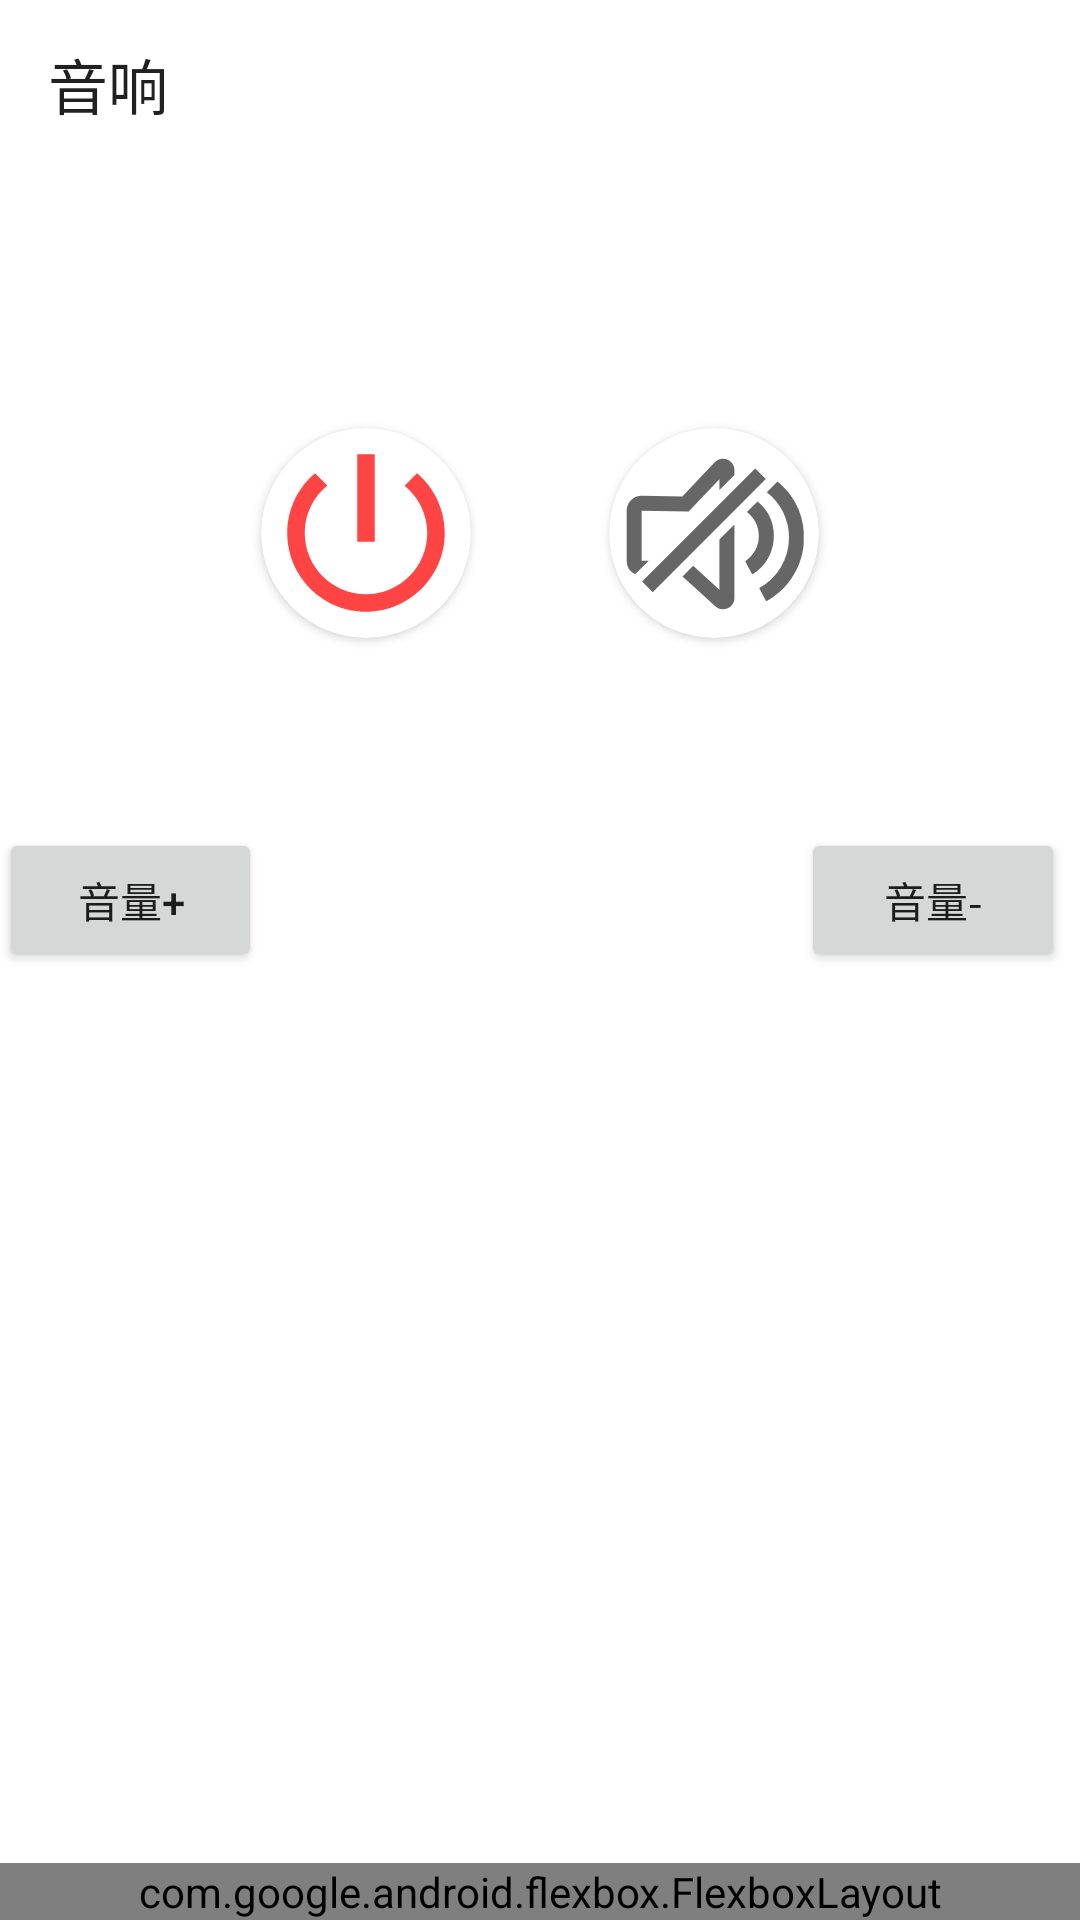

Point at icon controls on the screen. Image size 1080×1920, points as (x,y).
mute: (722,548)
power settings: (353,546)
